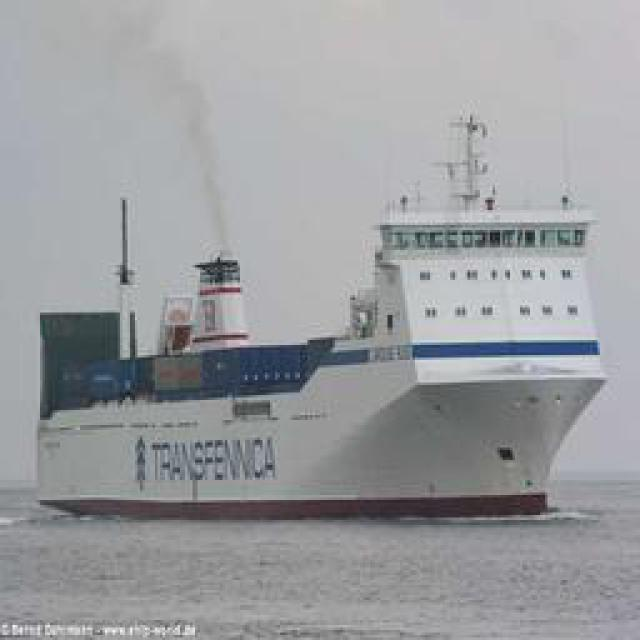Ship: (45, 134, 628, 534)
